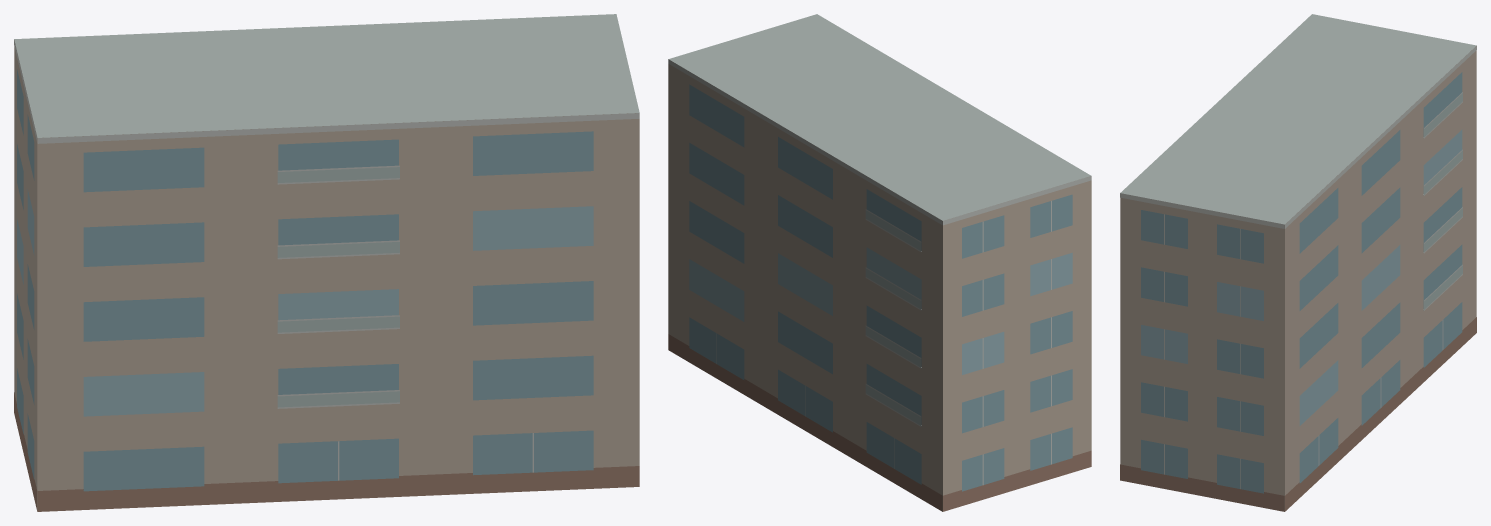
The model's file is survey-upis-32901146.glb.
3 views of the same model, side by side, from view 1: azimuth 30°, elevation 25°; view 2: azimuth 150°, elevation 25°; view 3: azimuth 270°, elevation 25° (orthographic). The views are drawn at different scales.
Visible parts, largest first — view 1: survey-upis-32901146.tmp; view 2: survey-upis-32901146.tmp; view 3: survey-upis-32901146.tmp.
Part boxes in pixels (x1,y1,x2,y2): survey-upis-32901146.tmp: (14, 14, 639, 511); survey-upis-32901146.tmp: (668, 14, 1091, 511); survey-upis-32901146.tmp: (1120, 14, 1476, 511).
Size of the model in its own units: 24.36 by 15.5 by 17.44.
